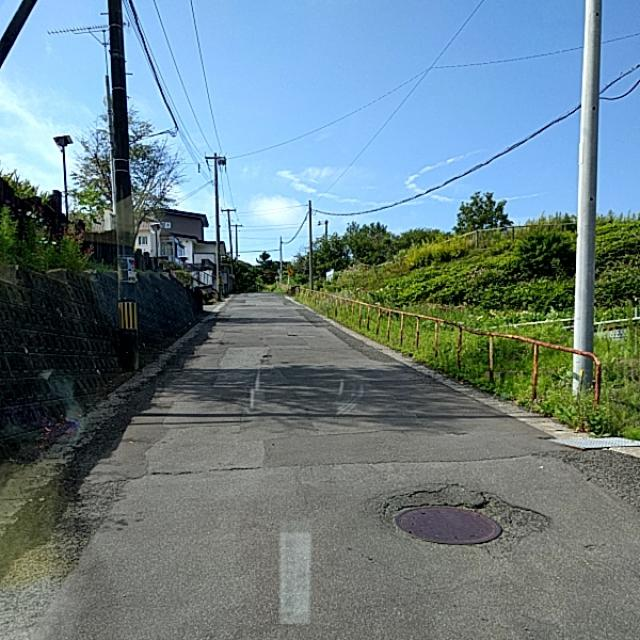pothole: (133, 450, 257, 477)
